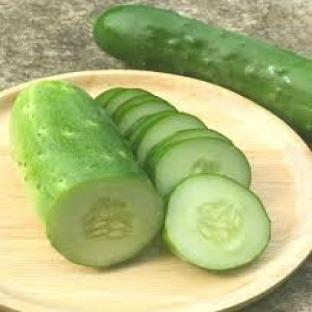Cucumber: (94, 6, 311, 140), (11, 81, 163, 266), (164, 175, 270, 270), (147, 138, 250, 195), (134, 112, 206, 164), (147, 129, 232, 161), (117, 100, 175, 133), (112, 95, 165, 123), (124, 112, 171, 143), (106, 89, 151, 116), (95, 88, 123, 108)
